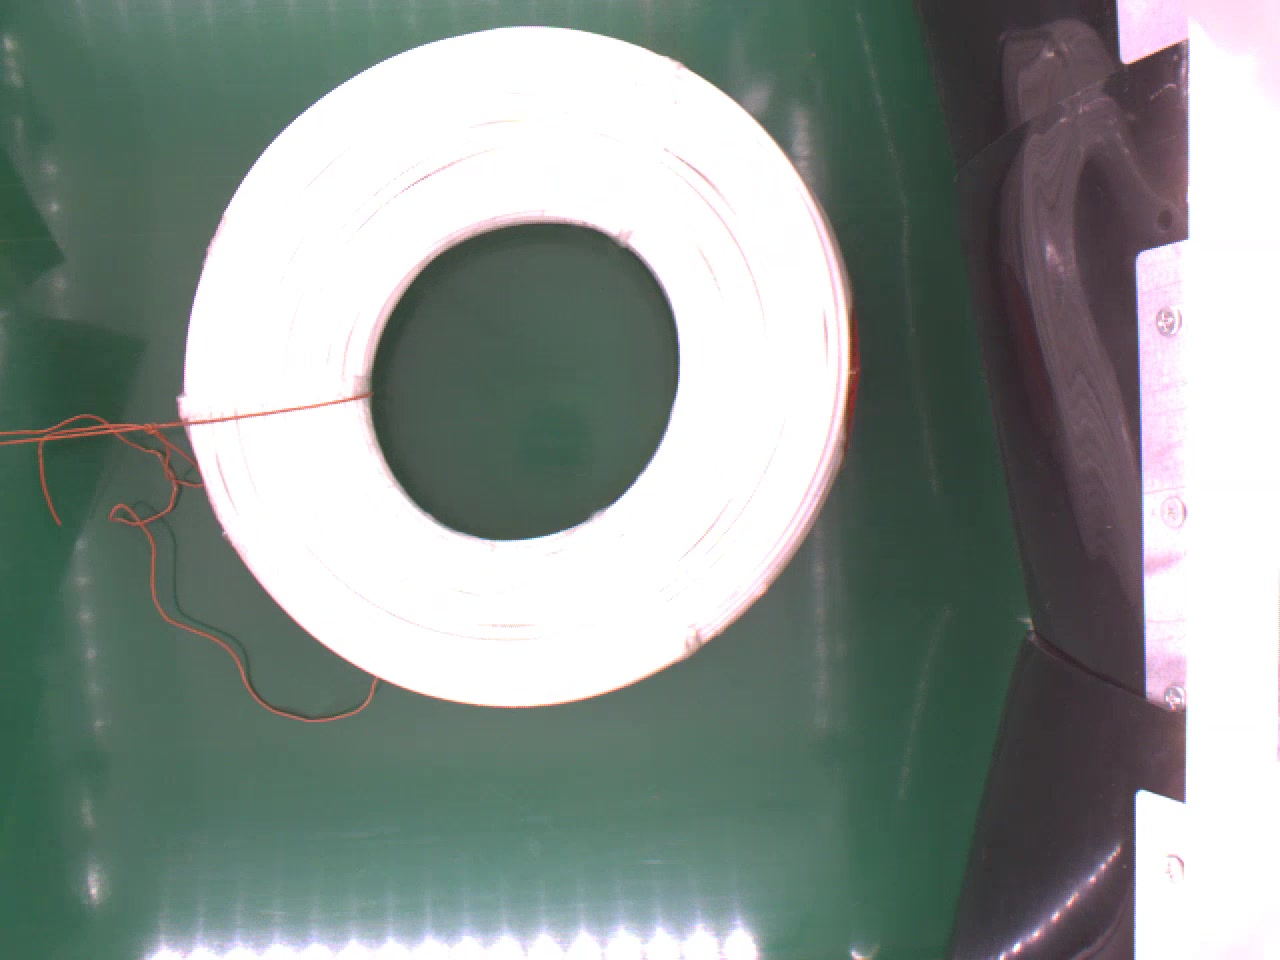white: (181, 22, 874, 705)
